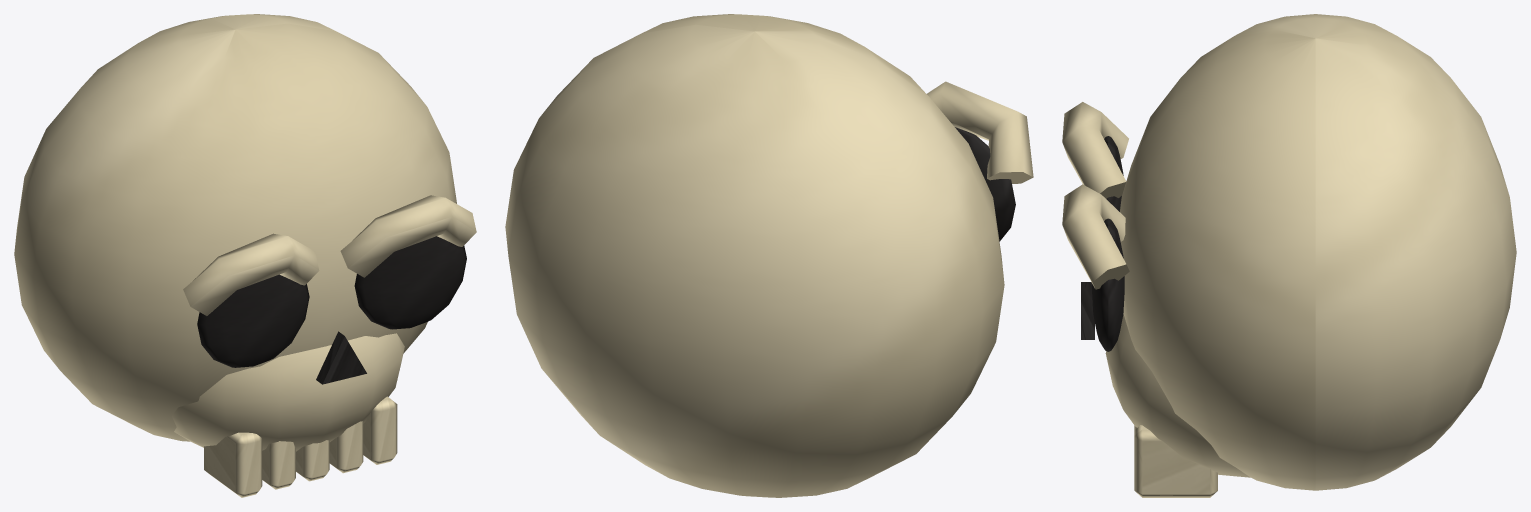
Rendered from SM_Skull.glb.
3 renders of one model, left to right at view 1: azimuth 30°, elevation 25°; view 2: azimuth 150°, elevation 25°; view 3: azimuth 270°, elevation 25°, orthographic. The views are drawn at different scales.
Parts seen in each view (by area): view 1: SM_Skull; view 2: SM_Skull; view 3: SM_Skull.
Part boxes in pixels (x1=…): SM_Skull: x1=14, y1=14, x2=476, y2=497; SM_Skull: x1=505, y1=14, x2=1033, y2=497; SM_Skull: x1=1062, y1=14, x2=1516, y2=497.
Size of the model in its own units: 0.54 by 0.5076 by 0.4885.
Materials: 1 (1 with a texture image).
